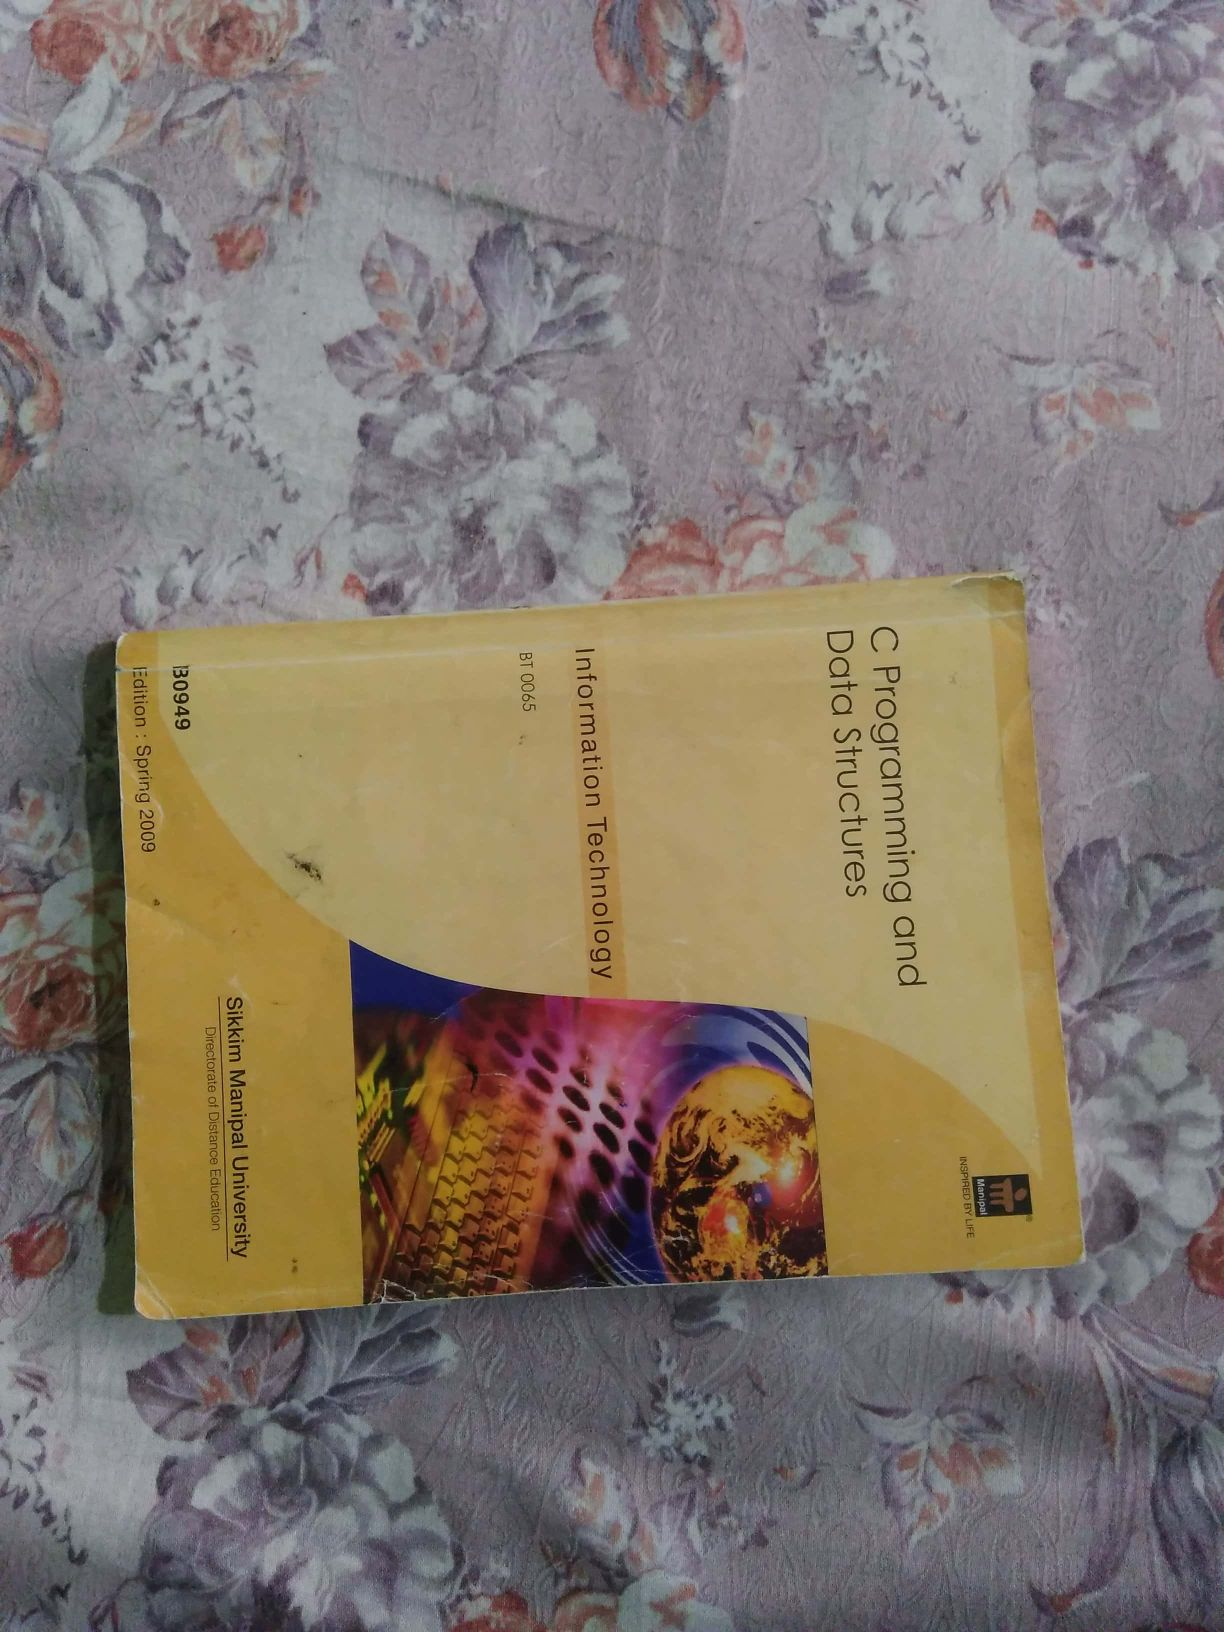clang: (87, 576, 1126, 1392)
